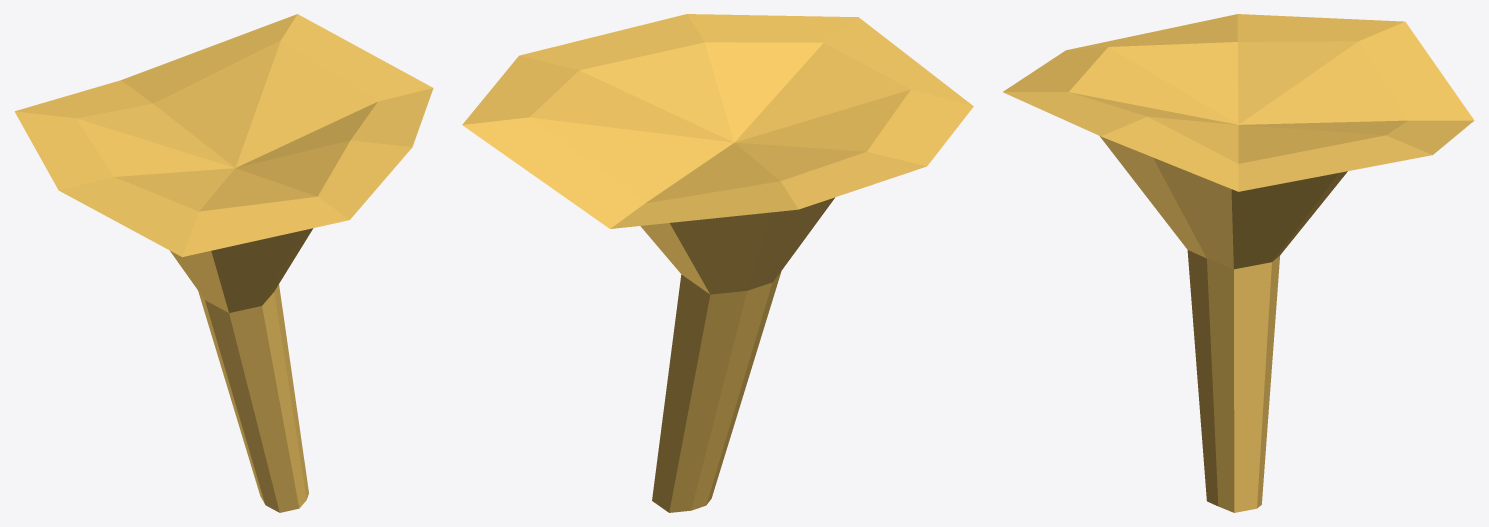
The model's file is Mushroom_j_01.fbx.
The picture shows the model from 3 angles, left to right: view 1: azimuth 30°, elevation 25°; view 2: azimuth 150°, elevation 25°; view 3: azimuth 270°, elevation 25°; orthographic projection. The views are drawn at different scales.
Parts seen in each view (by area): view 1: Mushroom_j_01; view 2: Mushroom_j_01; view 3: Mushroom_j_01.
Boxes of the visible parts, <box> form: Mushroom_j_01: <box>14,14,433,512</box>; Mushroom_j_01: <box>462,14,973,512</box>; Mushroom_j_01: <box>1003,14,1474,512</box>.
Bounding box in the file's own units: 0.1875 × 0.1869 × 0.198.
